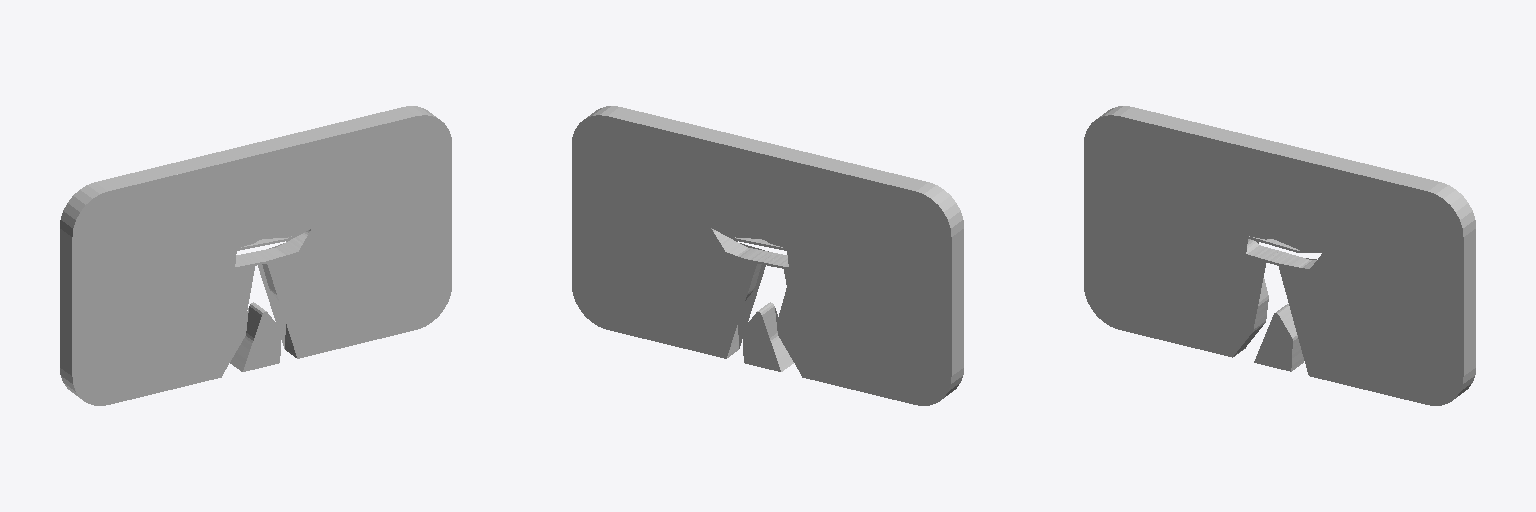
3 views of the same model, side by side, from view 1: azimuth 30°, elevation 25°; view 2: azimuth 150°, elevation 25°; view 3: azimuth 330°, elevation 25° (orthographic).
Parts seen in each view (by area): view 1: POSE11; view 2: POSE11; view 3: POSE11.
Boxes of the visible parts, x1=… form: POSE11: x1=60, y1=106, x2=451, y2=405; POSE11: x1=572, y1=106, x2=963, y2=405; POSE11: x1=1084, y1=106, x2=1475, y2=405.
Size of the model in its own units: 12 by 6.45 by 0.7.